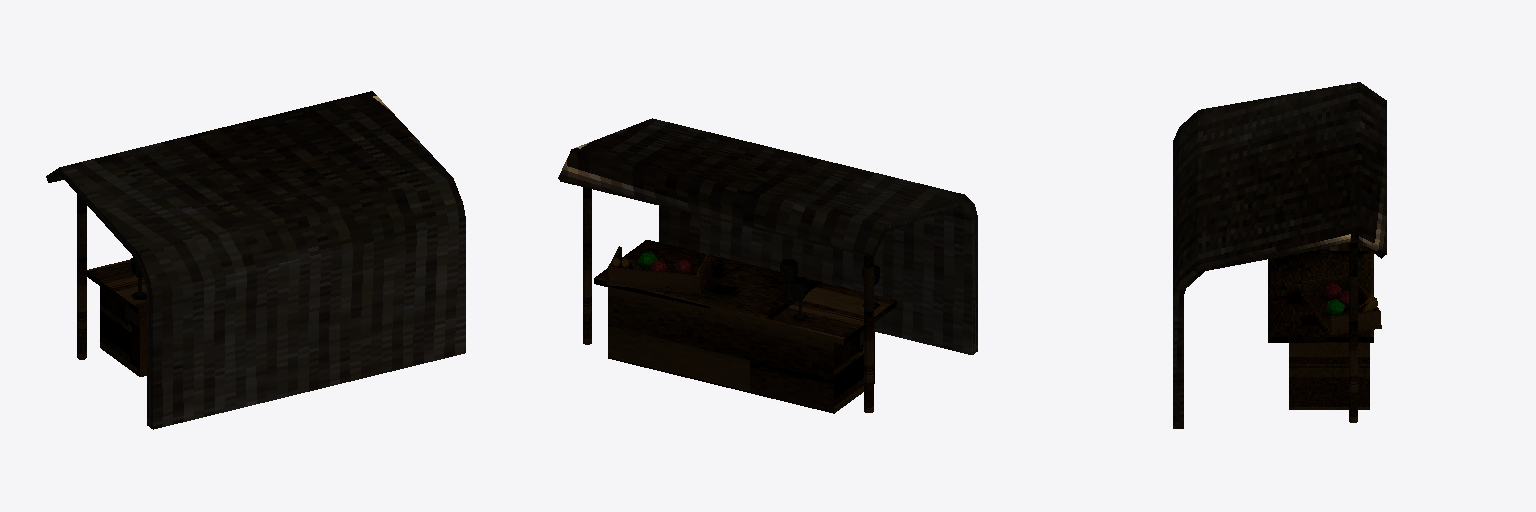
3 renders of one model, left to right at view 1: azimuth 30°, elevation 25°; view 2: azimuth 150°, elevation 25°; view 3: azimuth 270°, elevation 25°, orthographic.
Parts seen in each view (by area): view 1: Cube; view 2: Cube; view 3: Cube.
Part boxes in pixels (x1,y1,x2,y2): Cube: (46, 91, 465, 429); Cube: (558, 118, 977, 413); Cube: (1173, 82, 1386, 428).
Size of the model in its own units: 8.92 by 5.32 by 5.29.
Materials: 1 (1 with a texture image).